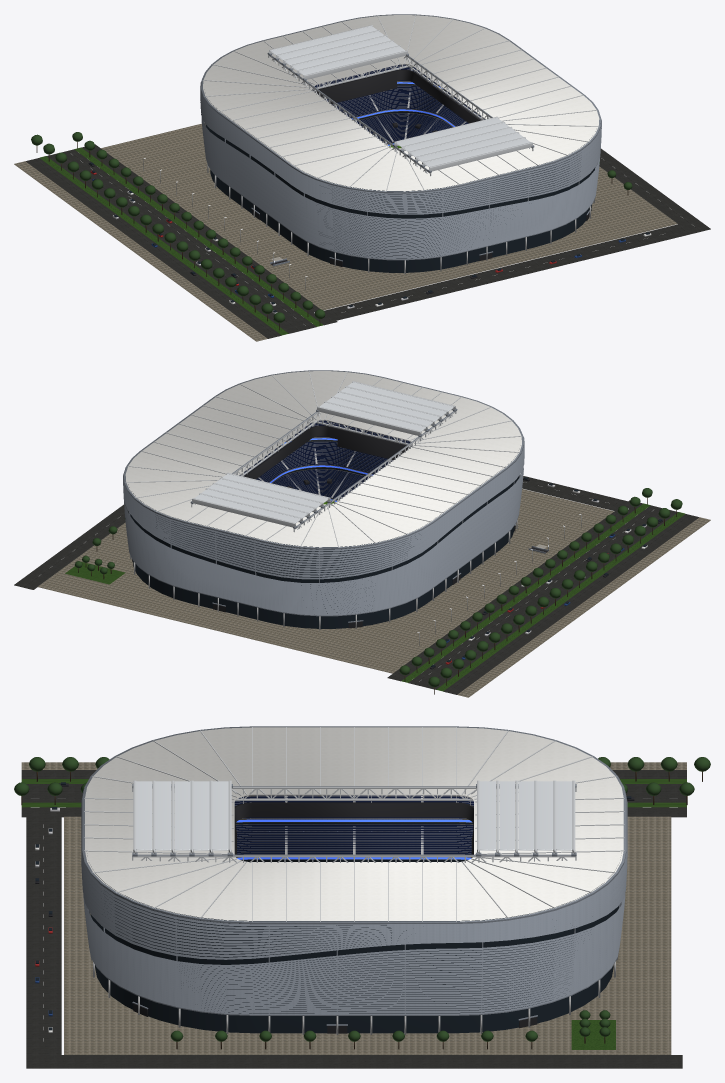
The model's file is santiago_bernabeu.glb.
3 renders of one model, top to bottom at view 1: azimuth 30°, elevation 25°; view 2: azimuth 150°, elevation 25°; view 3: azimuth 270°, elevation 25°, orthographic. The views are drawn at different scales.
Parts seen in each view (by area): view 1: BB_CubiertaFija, Grupo_7_213piezas, Grupo_12_3piezas, Grupo_13_5piezas, Grupo_9_40piezas, Grupo_10_430piezas, Grupo_11_10piezas, Grupo_16_57piezas, Grupo_5_3piezas, Grupo_14_3piezas, BB_Respaldos, Grupo_6_51piezas (+1 smaller); view 2: BB_CubiertaFija, Grupo_7_213piezas, Grupo_12_3piezas, Grupo_13_5piezas, Grupo_9_40piezas, Grupo_10_430piezas, Grupo_11_10piezas, Grupo_16_57piezas, Grupo_14_3piezas, Grupo_5_3piezas, BB_Respaldos, Grupo_6_51piezas (+1 smaller); view 3: BB_CubiertaFija, Grupo_7_213piezas, Grupo_12_3piezas, Grupo_9_40piezas, Grupo_13_5piezas, Grupo_11_10piezas, Grupo_10_430piezas, BB_Respaldos, Grupo_5_3piezas, Grupo_8_42piezas, Grupo_6_51piezas, Grupo_16_57piezas (+3 smaller).
Boxes of the visible parts, bbox=[...] form: BB_CubiertaFija: bbox=[203, 15, 599, 191]; Grupo_7_213piezas: bbox=[143, 14, 601, 289]; Grupo_12_3piezas: bbox=[14, 123, 677, 341]; Grupo_13_5piezas: bbox=[25, 144, 710, 338]; Grupo_9_40piezas: bbox=[89, 84, 649, 312]; Grupo_10_430piezas: bbox=[203, 15, 599, 191]; Grupo_11_10piezas: bbox=[271, 26, 530, 166]; Grupo_16_57piezas: bbox=[31, 132, 632, 322]; Grupo_5_3piezas: bbox=[315, 65, 484, 143]; Grupo_14_3piezas: bbox=[39, 147, 323, 335]; BB_Respaldos: bbox=[313, 64, 484, 143]; Grupo_6_51piezas: bbox=[252, 69, 589, 266]; BB_CubiertaFija: bbox=[125, 371, 521, 547]; Grupo_7_213piezas: bbox=[123, 370, 581, 645]; Grupo_12_3piezas: bbox=[38, 452, 710, 697]; Grupo_13_5piezas: bbox=[14, 475, 699, 694]; Grupo_9_40piezas: bbox=[128, 440, 661, 667]; Grupo_10_430piezas: bbox=[125, 371, 521, 547]; Grupo_11_10piezas: bbox=[194, 382, 453, 522]; Grupo_16_57piezas: bbox=[74, 488, 682, 687]; Grupo_14_3piezas: bbox=[65, 503, 685, 691]; Grupo_5_3piezas: bbox=[240, 421, 409, 499]; BB_Respaldos: bbox=[239, 420, 411, 499]; Grupo_6_51piezas: bbox=[132, 425, 547, 628]; BB_CubiertaFija: bbox=[85, 727, 623, 921]; Grupo_7_213piezas: bbox=[81, 726, 627, 1025]; Grupo_12_3piezas: bbox=[21, 762, 686, 1054]; Grupo_9_40piezas: bbox=[35, 782, 631, 1033]; Grupo_13_5piezas: bbox=[21, 770, 686, 1068]; Grupo_11_10piezas: bbox=[136, 781, 572, 850]; Grupo_10_430piezas: bbox=[84, 727, 624, 921]; BB_Respaldos: bbox=[234, 795, 473, 854]; Grupo_5_3piezas: bbox=[234, 796, 473, 854]; Grupo_8_42piezas: bbox=[91, 796, 617, 1034]; Grupo_6_51piezas: bbox=[133, 795, 537, 1033]; Grupo_16_57piezas: bbox=[14, 757, 710, 1041].
Size of the model in its own units: 2.99 by 0.5761 by 2.89.
Materials: 26 (10 with a texture image).
